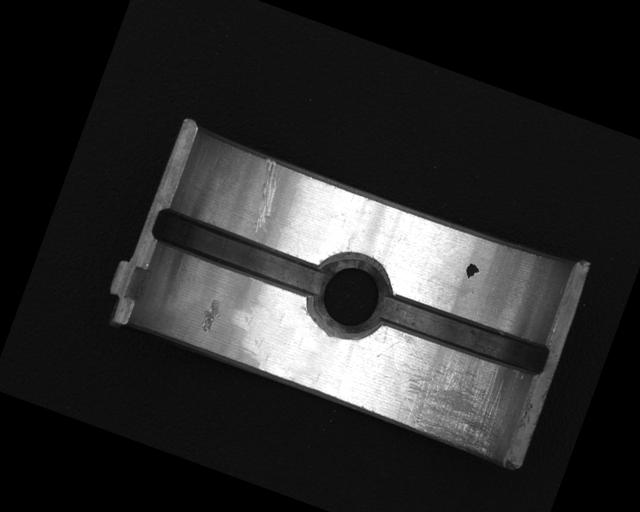blot: (462, 260, 482, 281)
bruise: (196, 295, 226, 336)
gap: (148, 203, 330, 303), (372, 287, 552, 381)
hole: (300, 243, 402, 349)
nick: (242, 158, 289, 234)
scratch: (385, 337, 529, 462)
